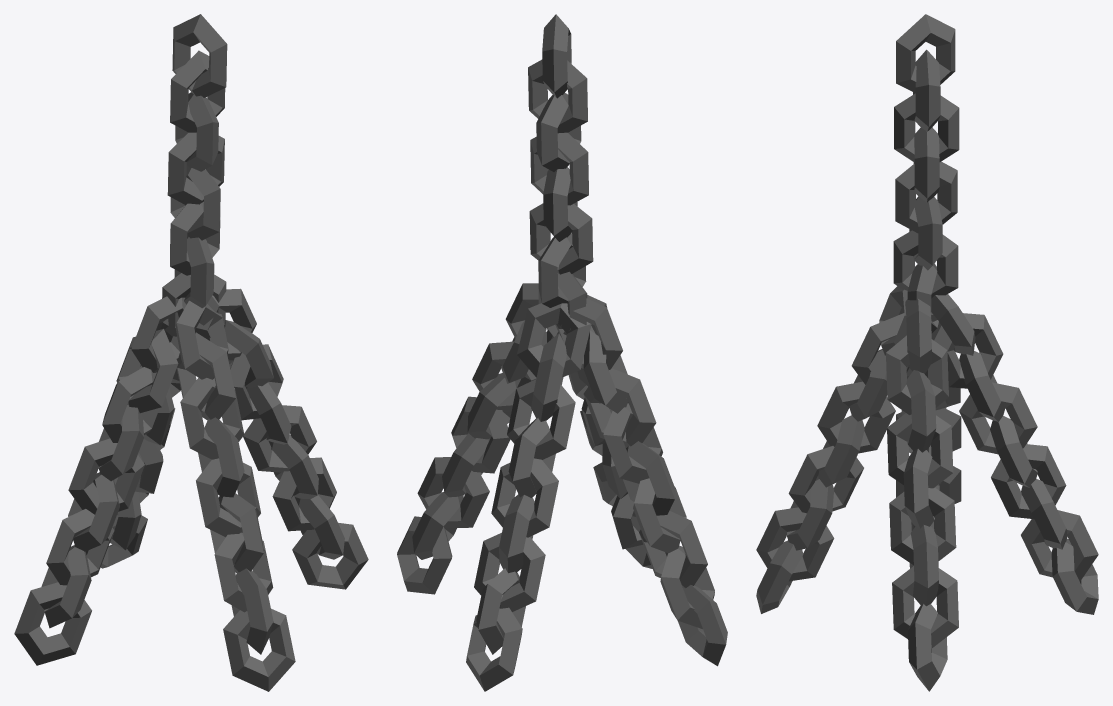
The model's file is HangingLightChain.fbx.
3 renders of one model, left to right at view 1: azimuth 30°, elevation 25°; view 2: azimuth 150°, elevation 25°; view 3: azimuth 270°, elevation 25°, orthographic.
Visible parts, largest first — view 1: HangingLightChain; view 2: HangingLightChain; view 3: HangingLightChain.
Boxes of the visible parts, x1,y1,x2,y2 form: HangingLightChain: (14,14,368,691); HangingLightChain: (397,14,727,691); HangingLightChain: (756,14,1098,691).
Bounding box in the file's own units: 125 × 215 × 110.
